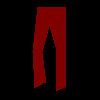abbigliamento_uomo: (32, 6, 66, 91)
